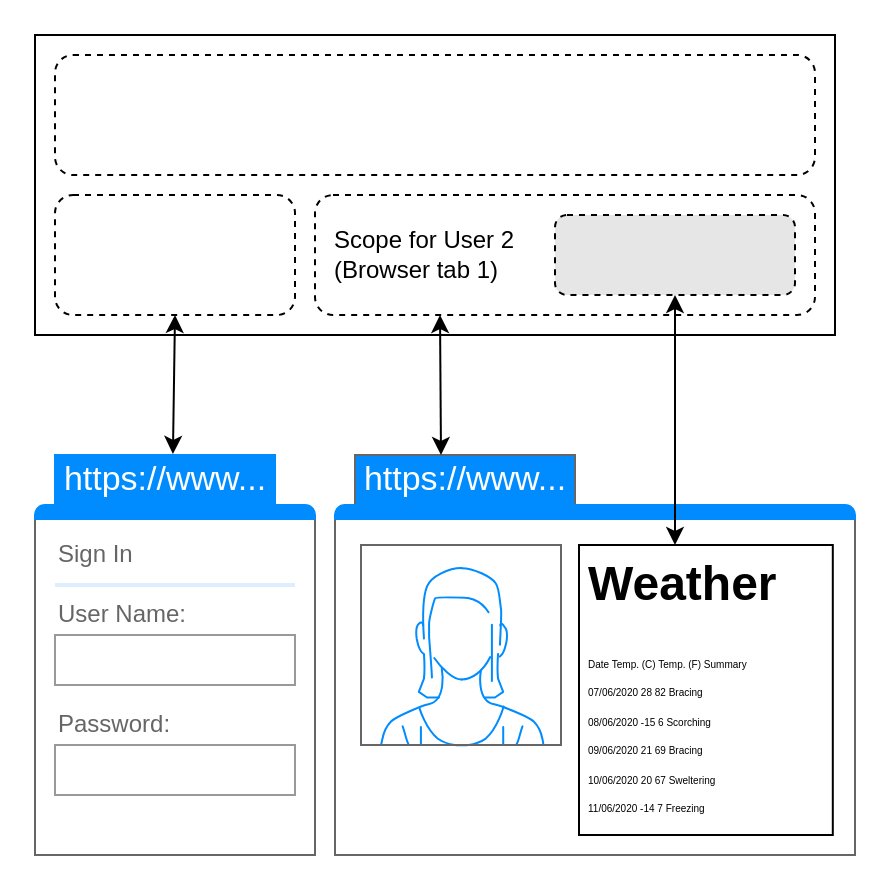
Image size: 890x890. Some labels were removed from this diagram. The shapes that lost their labels are listed below. From the top down, each one's centre as x and y in pixels, then its label:
At [434,114]: "Shared instances in Singleton scope".
At [174,254]: "Scope for User 1 (Single tab)".
At [674,254]: "Scope for component instance".
